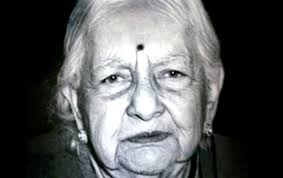indian_female: (83, 1, 216, 164)
